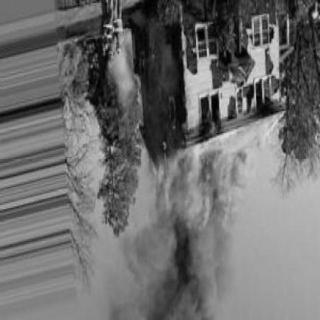Fire: (152, 138, 234, 236), (198, 116, 220, 138)
Smoke: (143, 244, 225, 320)
